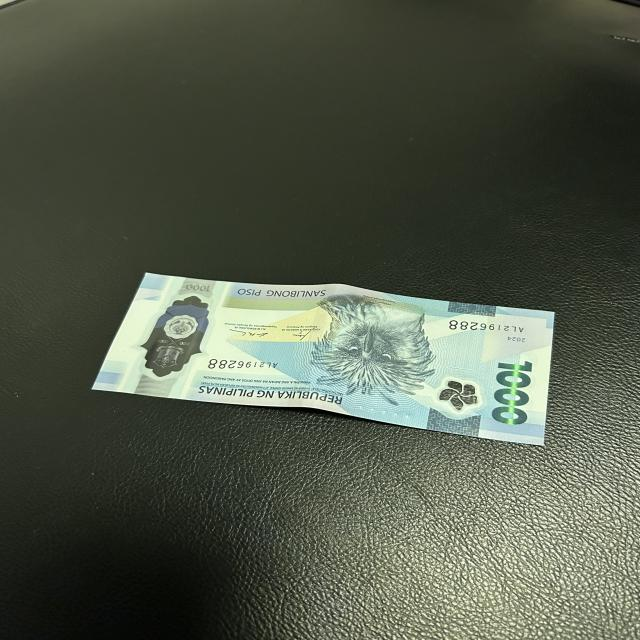clear_window: (143, 291, 206, 388)
eagle: (306, 294, 423, 400)
sampaguita: (436, 375, 479, 413)
